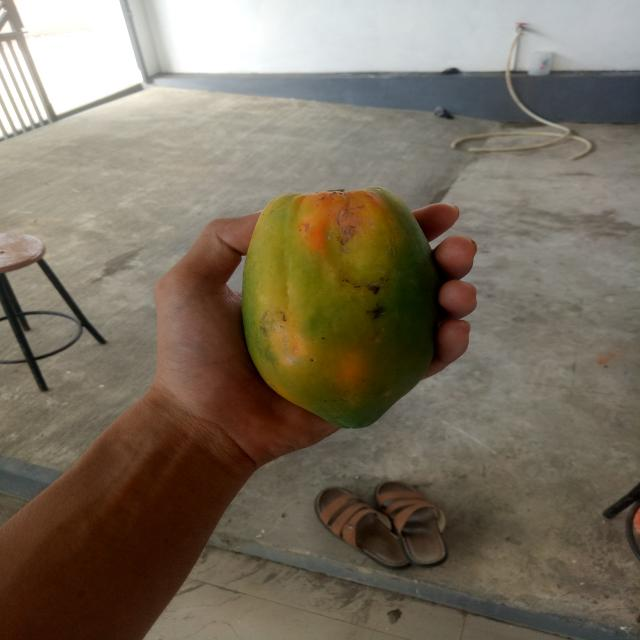Pepaya rippen: (238, 180, 449, 439)
